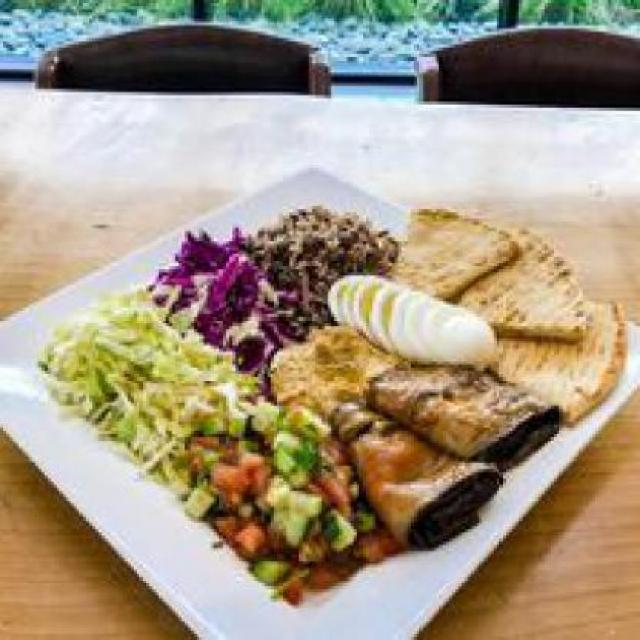eggplant: (334, 358, 560, 548)
hummus: (274, 323, 395, 403)
